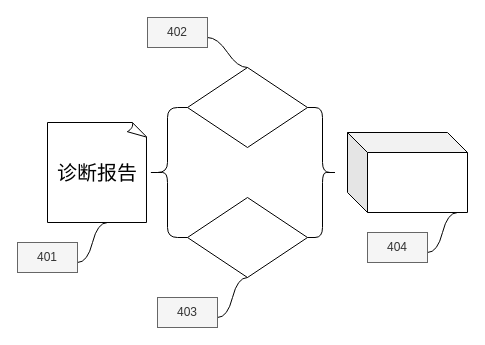
Image size: 485x345. Some labels were removed from this diagram. The centre of each missing label's shape, as x and y in pixels:
可执行收集指令: point 407,172
策略匹配: point 247,237
问题分类: point 247,107
